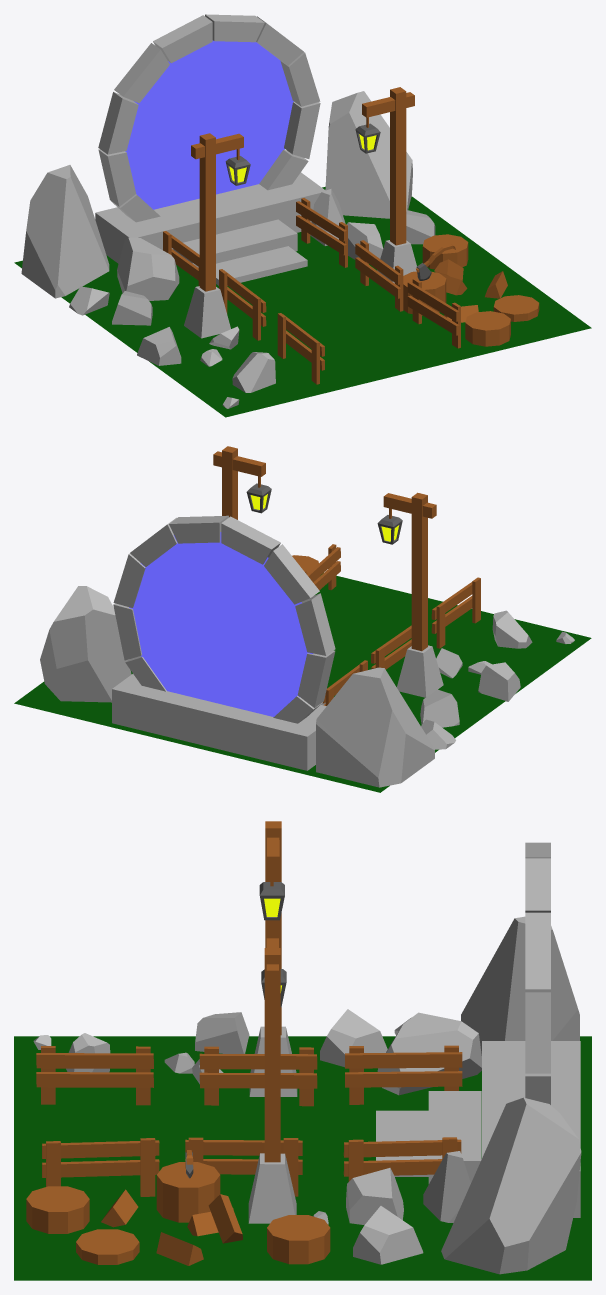
The model's file is portal.glb.
3 renders of one model, top to bottom at view 1: azimuth 30°, elevation 25°; view 2: azimuth 150°, elevation 25°; view 3: azimuth 270°, elevation 25°, orthographic. The views are drawn at different scales.
Visible parts, largest first — view 1: Cube.015, Circle; view 2: Cube.015, Circle; view 3: Cube.015.
Boxes of the visible parts, x1,y1,x2,y2 form: Cube.015: [14, 14, 591, 417]; Circle: [125, 40, 293, 209]; Cube.015: [14, 446, 591, 792]; Circle: [129, 532, 313, 716]; Cube.015: [14, 821, 591, 1280].
Bounding box in the file's own units: 4.08 × 2.28 × 4.
